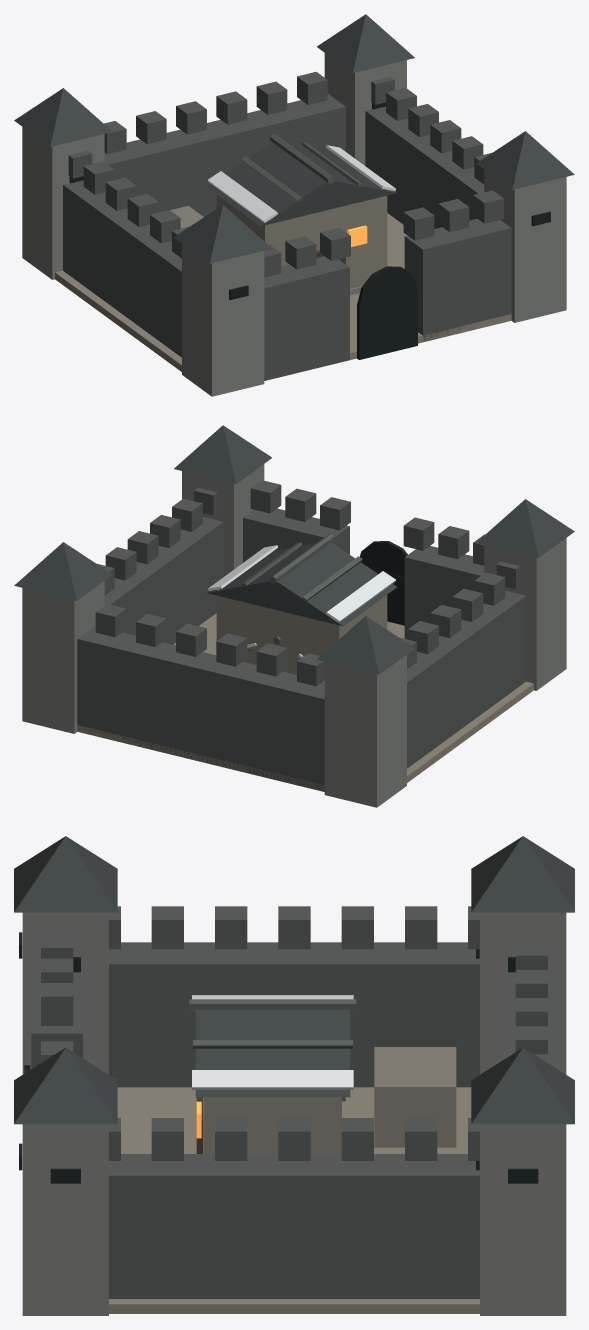
File: county-stronghold.glb
The picture shows the model from 3 angles, top to bottom: view 1: azimuth 30°, elevation 25°; view 2: azimuth 150°, elevation 25°; view 3: azimuth 270°, elevation 25°; orthographic projection. The views are drawn at different scales.
Parts seen in each view (by area): view 1: TH_CountyTown_BackWall, TH_CountyTown_LeftWall, TH_CountyTown_CornerTower_0, TH_CountyTown_FrontWallR, TH_CountyTown_FrontWallL, TH_CountyTown_CornerTower_1, TH_CountyTown_RightWall, TH_CountyTown_Gatehouse_Roof, TH_CountyTown_CornerTower_2, TH_CountyTown_Gatehouse_Walls, TH_CountyTown_Ground, TH_CountyTown_CornerTower_3 (+30 smaller); view 2: TH_CountyTown_BackWall, TH_CountyTown_LeftWall, TH_CountyTown_CornerTower_2, TH_CountyTown_CornerTower_3, TH_CountyTown_RightWall, TH_CountyTown_Gatehouse_Roof, TH_CountyTown_CornerTower_0, TH_CountyTown_Gatehouse_Walls, TH_CountyTown_Ground, TH_CountyTown_FrontWallL, TH_CountyTown_CornerTower_1, TH_CountyTown_FrontWallR (+30 smaller); view 3: TH_CountyTown_RightWall, TH_CountyTown_LeftWall, TH_CountyTown_CornerTower_1, TH_CountyTown_CornerTower_3, TH_CountyTown_Ground, TH_CountyTown_Gatehouse_Roof, TH_CountyTown_CornerTower_2, TH_CountyTown_SupplyShed, TH_CountyTown_CornerTower_0, TH_CountyTown_CornerRoof_1, TH_CountyTown_CornerRoof_3, TH_CountyTown_CornerRoof_0 (+25 smaller).
Boxes of the visible parts, x1,y1,x2,y2 form: TH_CountyTown_BackWall: [104, 94, 345, 216]; TH_CountyTown_LeftWall: [63, 180, 181, 357]; TH_CountyTown_CornerTower_0: [182, 244, 264, 396]; TH_CountyTown_FrontWallR: [404, 218, 511, 341]; TH_CountyTown_FrontWallL: [264, 256, 349, 380]; TH_CountyTown_CornerTower_1: [484, 170, 566, 322]; TH_CountyTown_RightWall: [365, 106, 484, 228]; TH_CountyTown_Gatehouse_Roof: [207, 142, 396, 226]; TH_CountyTown_CornerTower_2: [22, 127, 104, 279]; TH_CountyTown_Gatehouse_Walls: [216, 195, 387, 288]; TH_CountyTown_Ground: [55, 213, 511, 371]; TH_CountyTown_CornerTower_3: [324, 53, 406, 165]; TH_CountyTown_BackWall: [77, 626, 324, 791]; TH_CountyTown_LeftWall: [407, 590, 525, 768]; TH_CountyTown_CornerTower_2: [324, 655, 406, 807]; TH_CountyTown_CornerTower_3: [22, 581, 104, 733]; TH_CountyTown_RightWall: [104, 517, 223, 644]; TH_CountyTown_Gatehouse_Roof: [207, 542, 396, 626]; TH_CountyTown_CornerTower_0: [484, 538, 566, 690]; TH_CountyTown_Gatehouse_Walls: [216, 595, 387, 674]; TH_CountyTown_Ground: [77, 613, 533, 791]; TH_CountyTown_FrontWallL: [404, 546, 484, 639]; TH_CountyTown_CornerTower_1: [182, 464, 264, 576]; TH_CountyTown_FrontWallR: [243, 508, 349, 562]; TH_CountyTown_RightWall: [109, 1154, 479, 1298]; TH_CountyTown_LeftWall: [109, 942, 479, 1087]; TH_CountyTown_CornerTower_1: [22, 1124, 108, 1315]; TH_CountyTown_CornerTower_3: [480, 1124, 566, 1315]; TH_CountyTown_Ground: [109, 1087, 479, 1313]; TH_CountyTown_Gatehouse_Roof: [195, 1009, 350, 1097]; TH_CountyTown_CornerTower_2: [480, 912, 566, 1074]; TH_CountyTown_SupplyShed: [374, 1047, 456, 1147]; TH_CountyTown_CornerTower_0: [22, 912, 108, 1074]; TH_CountyTown_CornerRoof_1: [14, 1047, 117, 1124]; TH_CountyTown_CornerRoof_3: [471, 1047, 574, 1124]; TH_CountyTown_CornerRoof_0: [14, 836, 117, 912].
Size of the model in its own units: 1.4 by 0.64 by 1.3.
